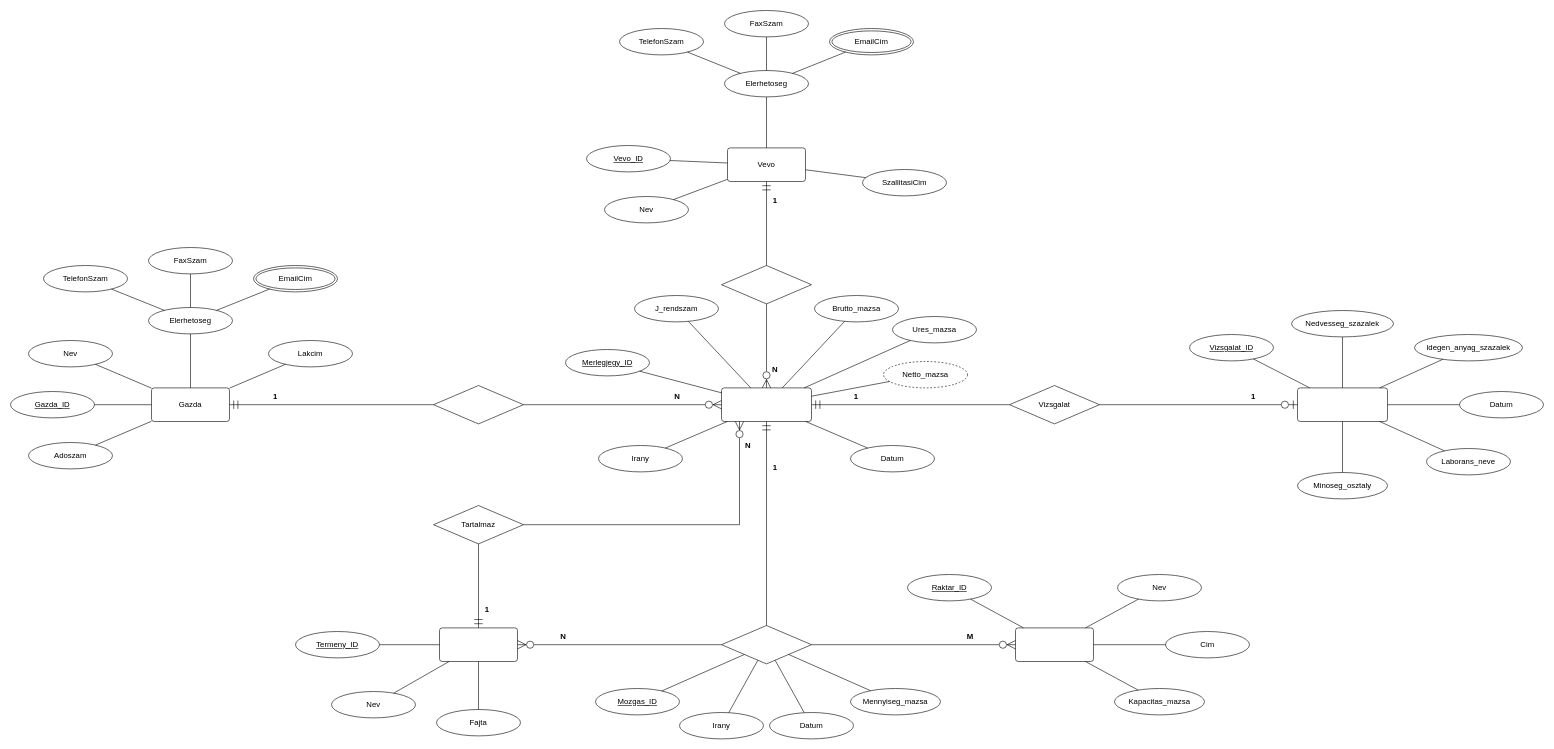
Image size: 1554x749. Some labels were removed from this diagram. The shapes that lost their labels are listed below. From the top down, each one's box as (x1, y1, x2, y2) in pixels, then its label:
(721, 265, 812, 304): Vasarol
(433, 385, 524, 424): Beszallit
(721, 387, 812, 422): Merlegjegy
(1297, 387, 1388, 422): MinosegVizsgalat
(439, 627, 518, 662): Termeny
(721, 625, 812, 664): KeszletMozgas
(1015, 627, 1094, 662): Raktar
